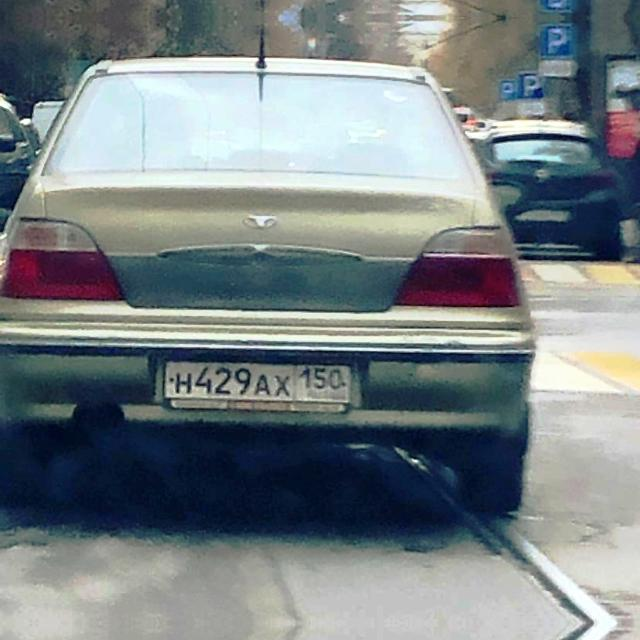citizen: (158, 354, 358, 416)
